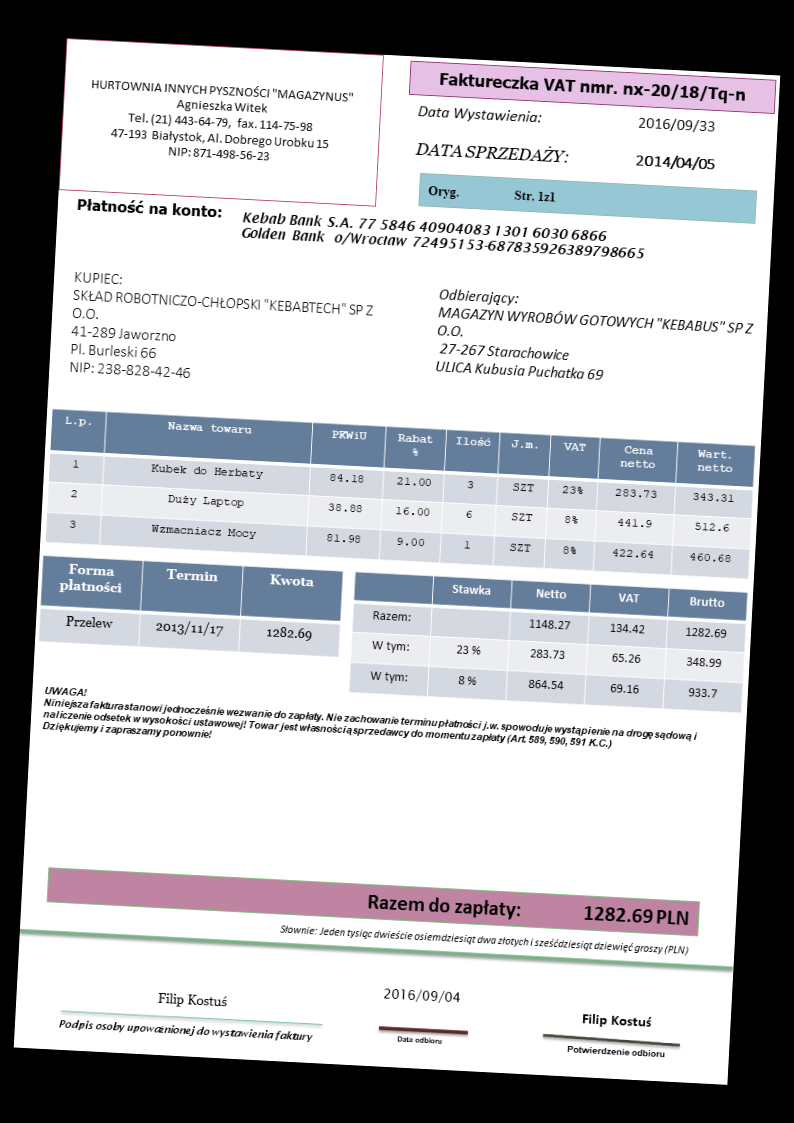Table: (44, 405, 757, 582), (347, 570, 750, 716), (37, 554, 343, 659)
TextBox: (38, 680, 702, 768), (65, 265, 377, 394), (432, 285, 759, 394), (82, 75, 356, 170), (237, 208, 649, 264), (275, 918, 690, 958), (364, 887, 693, 932), (433, 69, 748, 106), (55, 1016, 318, 1046), (412, 136, 570, 168), (70, 193, 224, 223), (422, 179, 558, 208), (412, 99, 543, 127), (631, 148, 719, 175), (380, 980, 465, 1007), (564, 1041, 667, 1061), (577, 1008, 658, 1031), (153, 987, 229, 1011), (634, 114, 718, 135), (391, 1030, 447, 1048)
